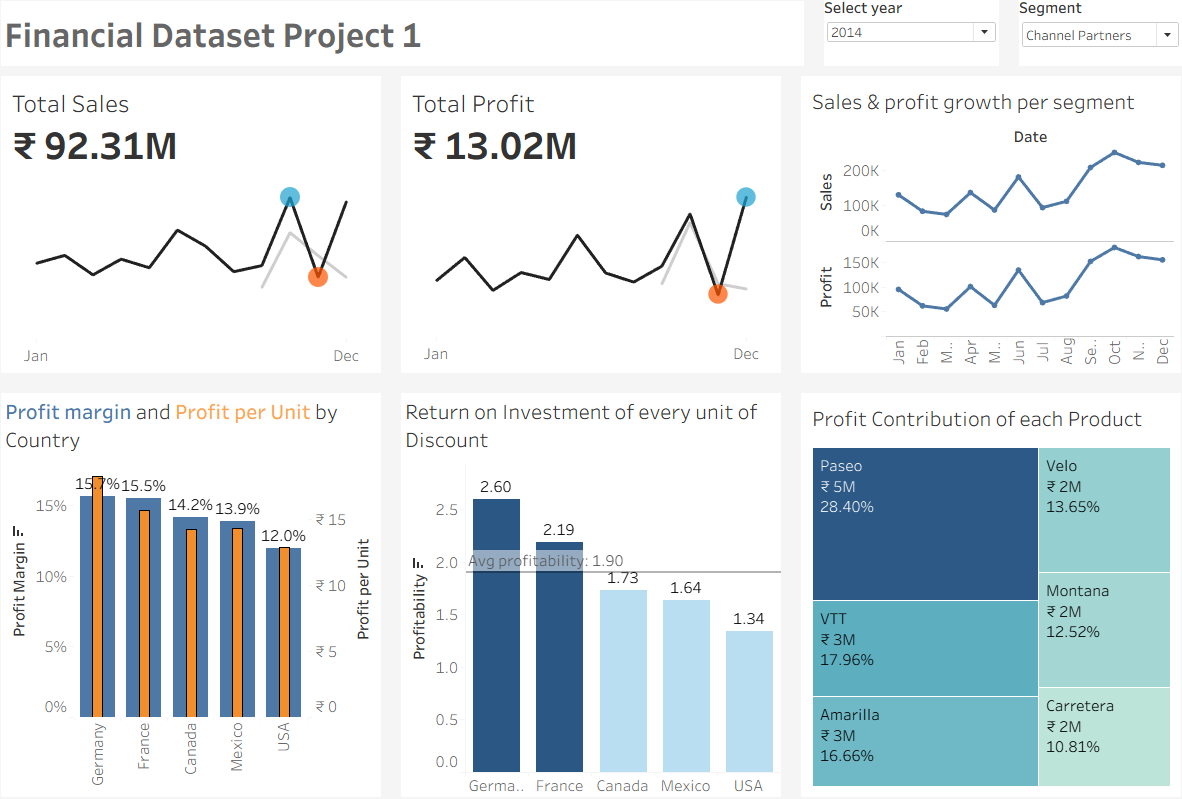

The page's visual inventory and layout, read from the dashboard file:
{"tool":"tableau","page":{"name":"Dashboard 1","canvas":[1200,800],"ordinal":0},"visuals":[{"type":"text","box":[0,0,823,79]},{"type":"parameter","param":"[Parameters].[Parameter 1]","box":[823,0,195,79]},{"type":"filter","title":"Sales + Profit growth over time","param":"[federated.100z2ud16wwoqs1bl2djk0qstehh].[none:Segment:nk]","box":[1018,0,173,79]},{"type":"worksheet","title":"KPI Sales","mark":"Line","rows":["Calculation_373798808196169738"],"cols":["Date"],"box":[0,79,400,307]},{"type":"worksheet","title":"KPI Profits","mark":"Automatic","rows":["Calculation_373798808218325013"],"cols":["Date"],"box":[400,79,400,307]},{"type":"worksheet","title":"Sales + Profit growth over time","mark":"Automatic","rows":["Sales ","Profit "],"cols":["Date"],"box":[800,79,400,307]},{"type":"worksheet","title":"Profit margin and per unit by Country","mark":"Bar","rows":["Calculation_373798808186880000","Calculation_373798808191070212"],"cols":["Country"],"box":[0,386,400,414]},{"type":"worksheet","title":"ROI of every unit of discount","mark":"Bar","rows":["Calculation_373798808191488007"],"cols":["Country"],"box":[400,386,400,414]},{"type":"worksheet","title":"Profit contribution of each product","mark":"Automatic","box":[800,386,400,414]}]}

Visuals, with their boxes in screenshot pixels (x1, y1, x2, y2), scaled from the page's 1200x800 canvas onto the 1182x799 screenshot:
text: {"left": 0, "top": 0, "right": 811, "bottom": 79}
parameter: {"left": 811, "top": 0, "right": 1003, "bottom": 79}
"Sales + Profit growth over time" filter: {"left": 1003, "top": 0, "right": 1173, "bottom": 79}
"KPI Sales" worksheet (Line marks): {"left": 0, "top": 79, "right": 394, "bottom": 386}
"KPI Profits" worksheet: {"left": 394, "top": 79, "right": 788, "bottom": 386}
"Sales + Profit growth over time" worksheet: {"left": 788, "top": 79, "right": 1181, "bottom": 386}
"Profit margin and per unit by Country" worksheet (Bar marks): {"left": 0, "top": 386, "right": 394, "bottom": 798}
"ROI of every unit of discount" worksheet (Bar marks): {"left": 394, "top": 386, "right": 788, "bottom": 798}
"Profit contribution of each product" worksheet: {"left": 788, "top": 386, "right": 1181, "bottom": 798}
